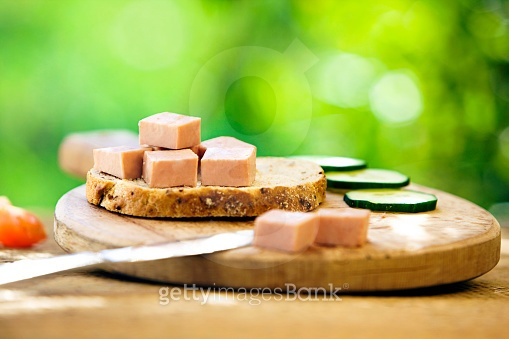slice of bread: (81, 153, 331, 219)
